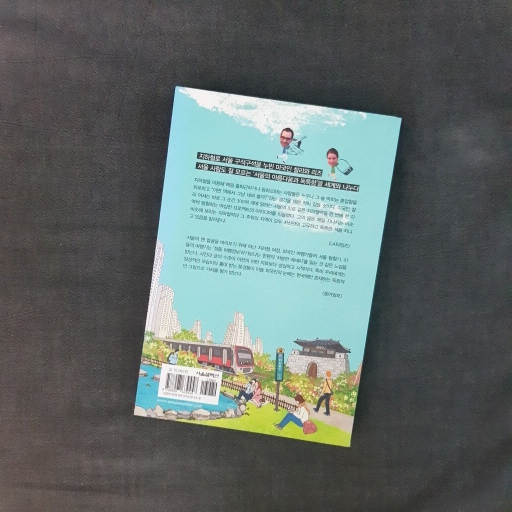Paper_0: (133, 83, 405, 465)
